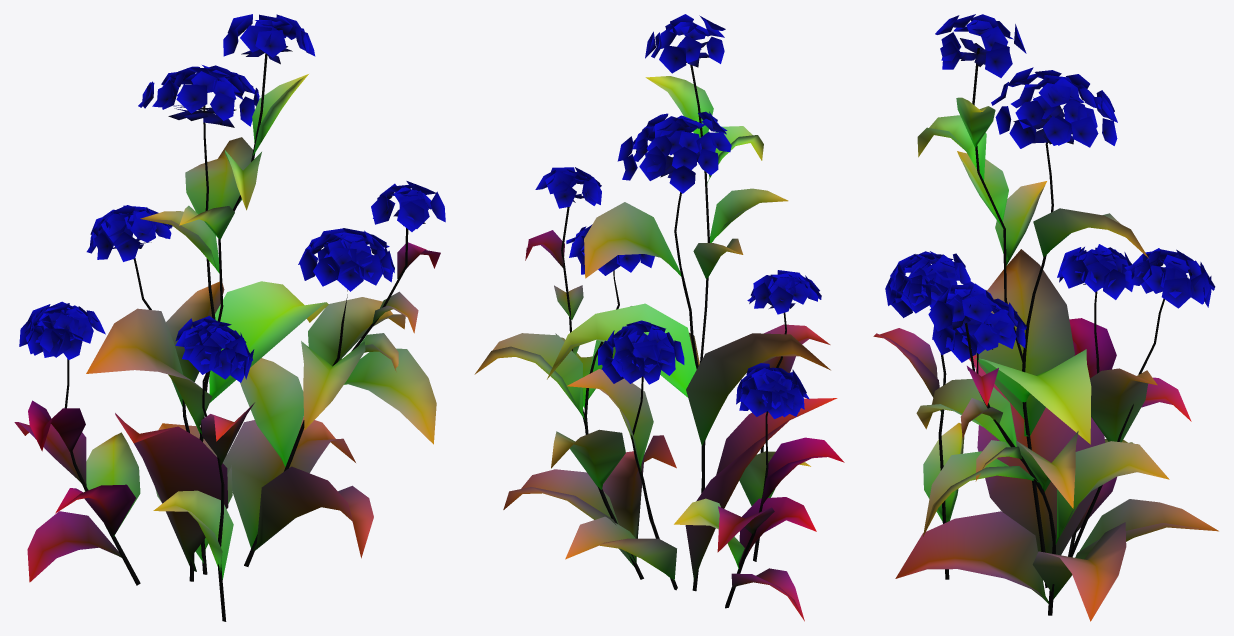
Rendered from SM_WildCarrot_M_02.fbx.
3 renders of one model, left to right at view 1: azimuth 30°, elevation 25°; view 2: azimuth 150°, elevation 25°; view 3: azimuth 270°, elevation 25°, orthographic. The views are drawn at different scales.
Parts seen in each view (by area): view 1: SM_WildCarrot_M_02_LOD0; view 2: SM_WildCarrot_M_02_LOD0; view 3: SM_WildCarrot_M_02_LOD0.
Boxes of the visible parts, x1,y1,x2,y2 form: SM_WildCarrot_M_02_LOD0: (14,14,445,621); SM_WildCarrot_M_02_LOD0: (474,14,844,621); SM_WildCarrot_M_02_LOD0: (873,14,1218,621).
Bounding box in the file's own units: 80.9 × 62.69 × 117.
